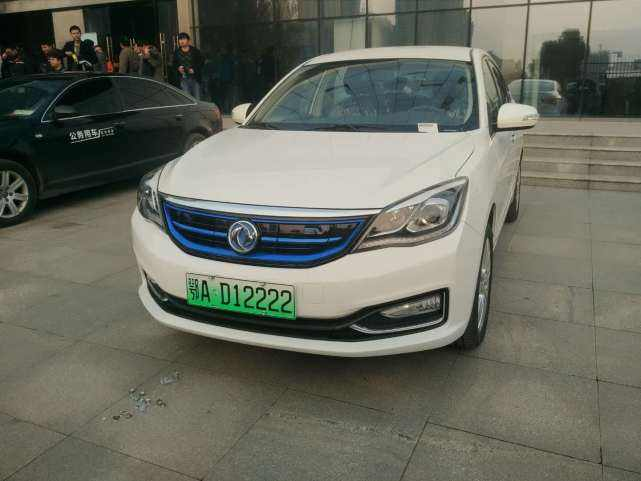plate: (179, 260, 306, 332)
